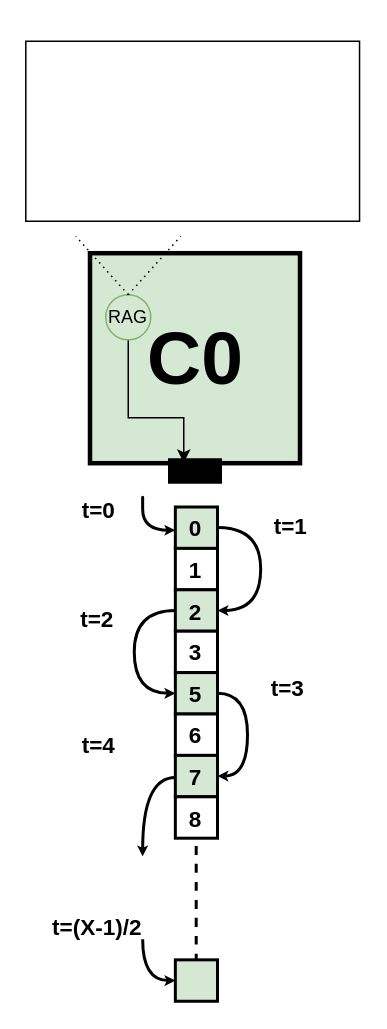
The diagram is 387 pixels wide and 1029 high, and some of its shapes have lost their labels. The shapes that lost their labels are listed below. From the top down, each one's centre as x and y in pixels, then its label:
pixel 192 130: STREAM_1D_Strided: START_IDX: 0 STATE: GENERATE X_MODIFY: +2 X_COUNT: X/2
pixel 195 980: X-1
